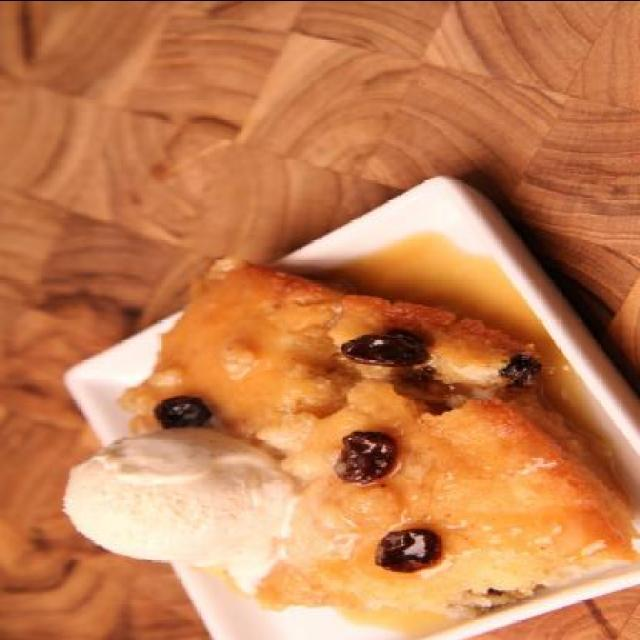Ice cream: (64, 418, 294, 580)
